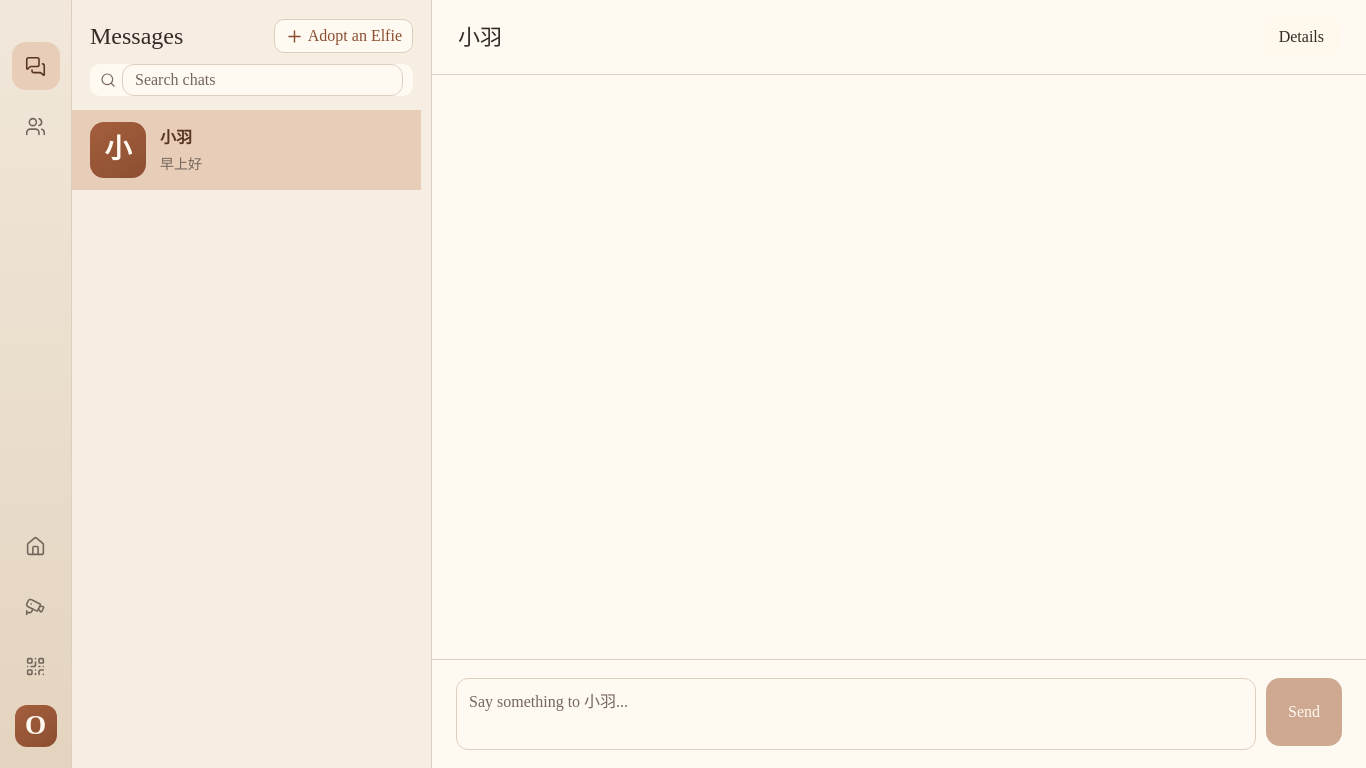
Scenario: ChatPage list pane headings › removes the connection status from both chat list panes
Check: the heading "Messages" is shown, box [90, 18, 183, 54]
Click the button named "Elfie list" at (36, 126), box [12, 102, 60, 150]
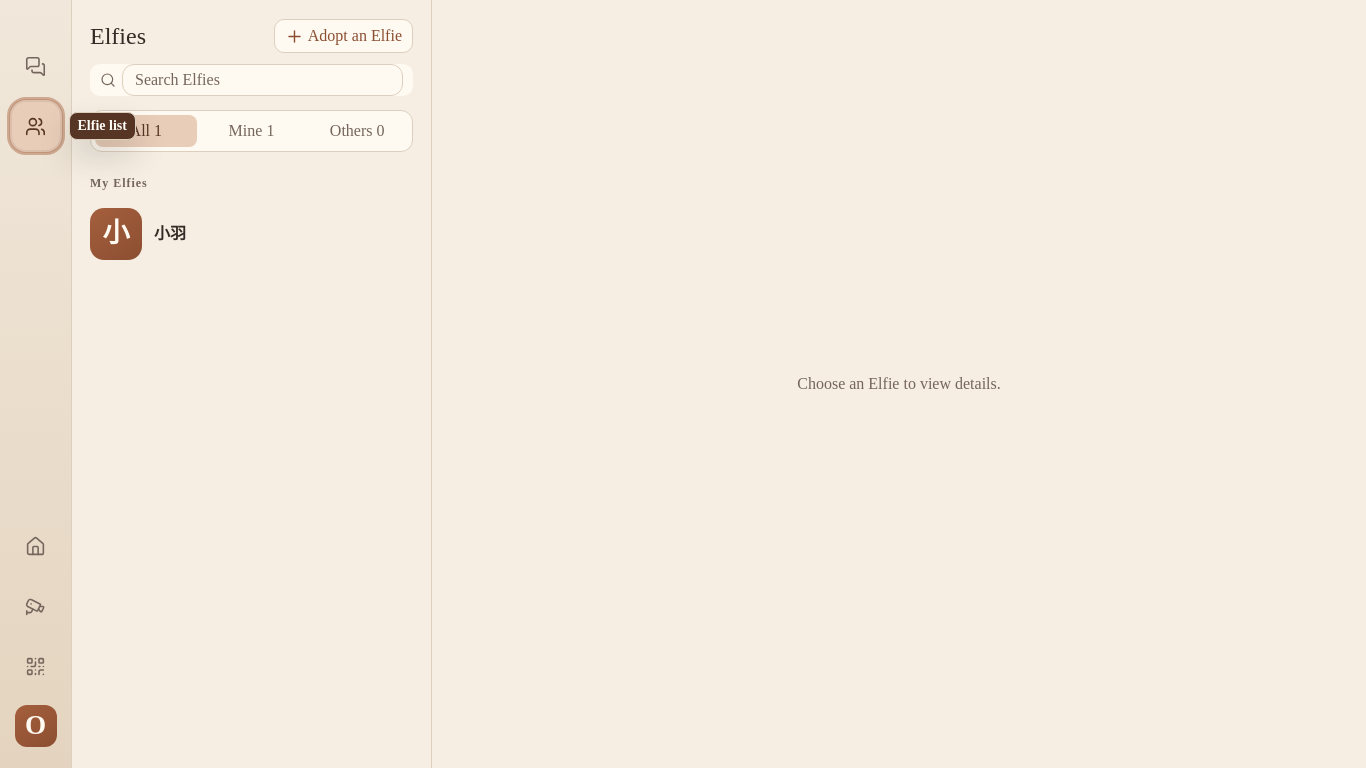
Check: the heading "Elfies" is shown, box [90, 18, 146, 54]
